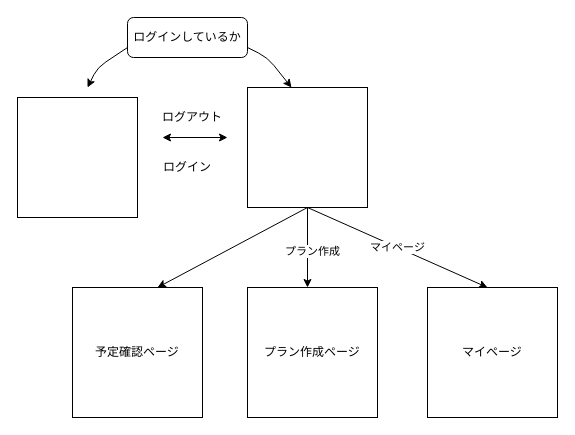
Image size: 575x435. Some labels were removed from this diagram. Each missing label, with the box of its shape:
トップページ: (246, 86, 368, 208)
・ログイン画面 ・新規登録画面: (16, 96, 138, 218)
